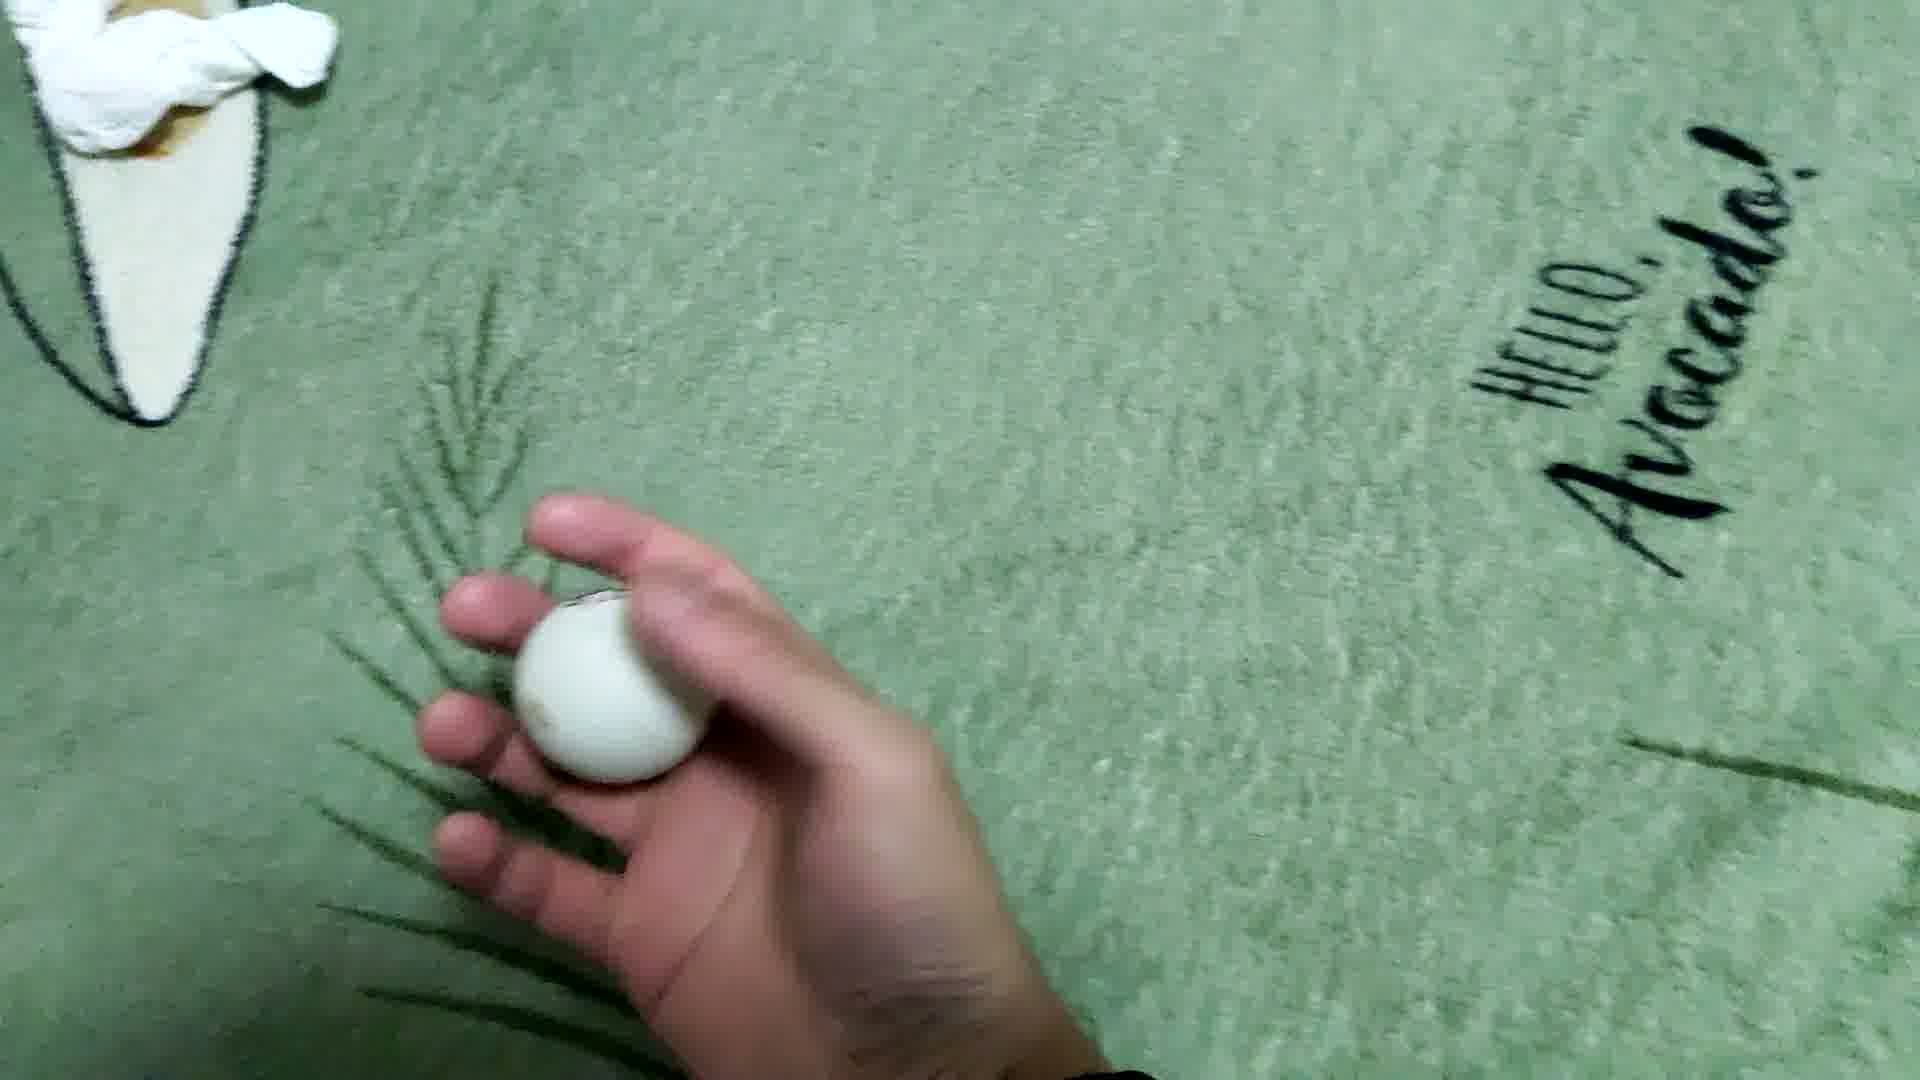Ball: (514, 589, 717, 779)
